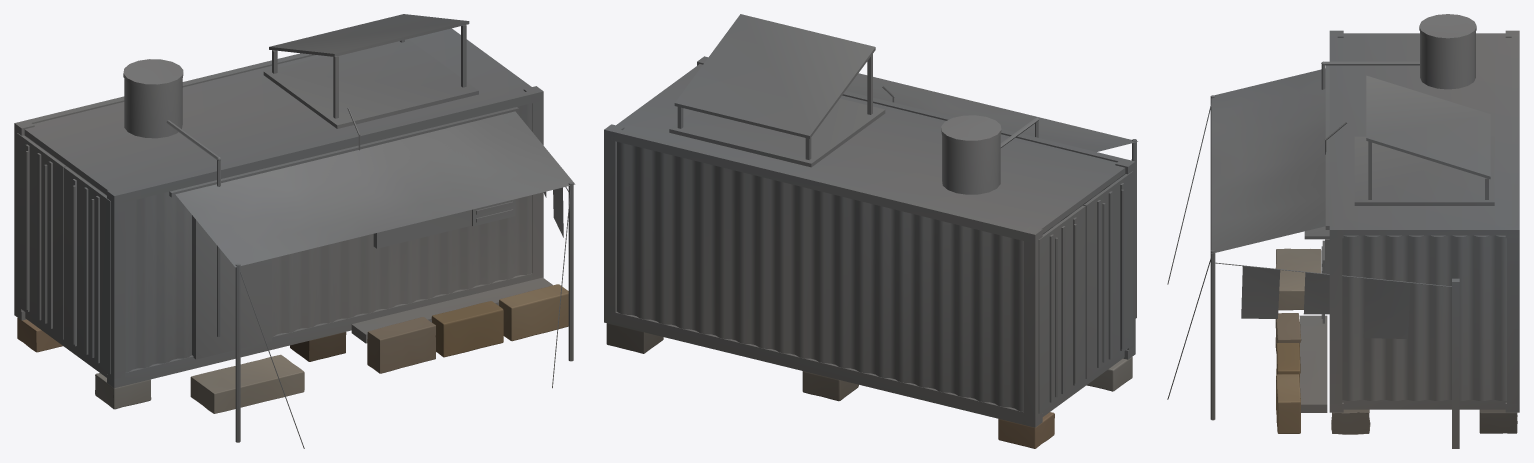
The model's file is WallHomeA_LOD0.glb.
The picture shows the model from 3 angles, left to right: view 1: azimuth 30°, elevation 25°; view 2: azimuth 150°, elevation 25°; view 3: azimuth 270°, elevation 25°; orthographic projection. The views are drawn at different scales.
Visible parts, largest first — view 1: WallHomeA_Metal_LOD0, WallHomeA_Canvas_LOD0, WallHomeA_Rubble_LOD0, WallHomeA_Sand_LOD0; view 2: WallHomeA_Metal_LOD0, WallHomeA_Canvas_LOD0, WallHomeA_Rubble_LOD0; view 3: WallHomeA_Metal_LOD0, WallHomeA_Canvas_LOD0, WallHomeA_Rubble_LOD0, WallHomeA_Sand_LOD0.
Part boxes in pixels (left/top/right/bottom): WallHomeA_Metal_LOD0: left=14, top=14, right=573, bottom=448; WallHomeA_Canvas_LOD0: left=175, top=111, right=575, bottom=267; WallHomeA_Rubble_LOD0: left=17, top=284, right=568, bottom=413; WallHomeA_Sand_LOD0: left=351, top=277, right=552, bottom=343; WallHomeA_Metal_LOD0: left=604, top=14, right=1136, bottom=427; WallHomeA_Canvas_LOD0: left=845, top=73, right=1137, bottom=151; WallHomeA_Rubble_LOD0: left=606, top=323, right=1132, bottom=448; WallHomeA_Metal_LOD0: left=1167, top=14, right=1519, bottom=448; WallHomeA_Canvas_LOD0: left=1211, top=68, right=1410, bottom=338; WallHomeA_Rubble_LOD0: left=1275, top=248, right=1517, bottom=434; WallHomeA_Sand_LOD0: left=1300, top=315, right=1327, bottom=412.
Bounding box in the file's own units: 6.56 × 3.85 × 4.53.
